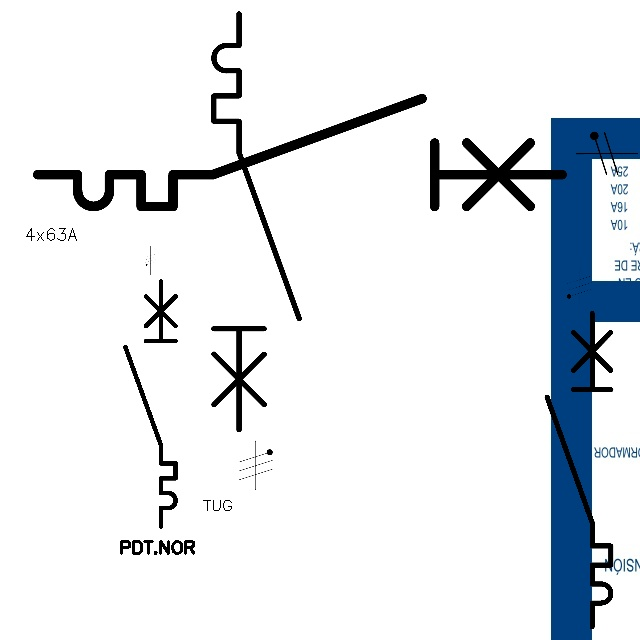interruptor_termomagnetico: (24, 85, 575, 220), (203, 3, 310, 441), (539, 305, 619, 634), (119, 275, 182, 533)
